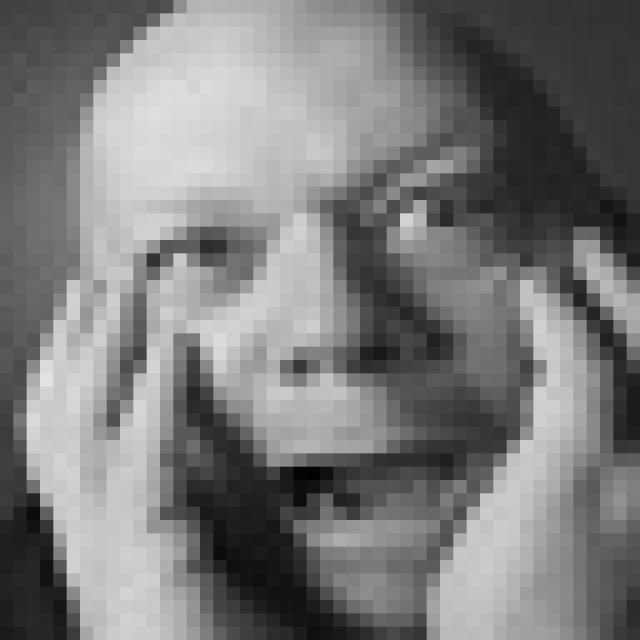fear: (130, 125, 544, 557)
